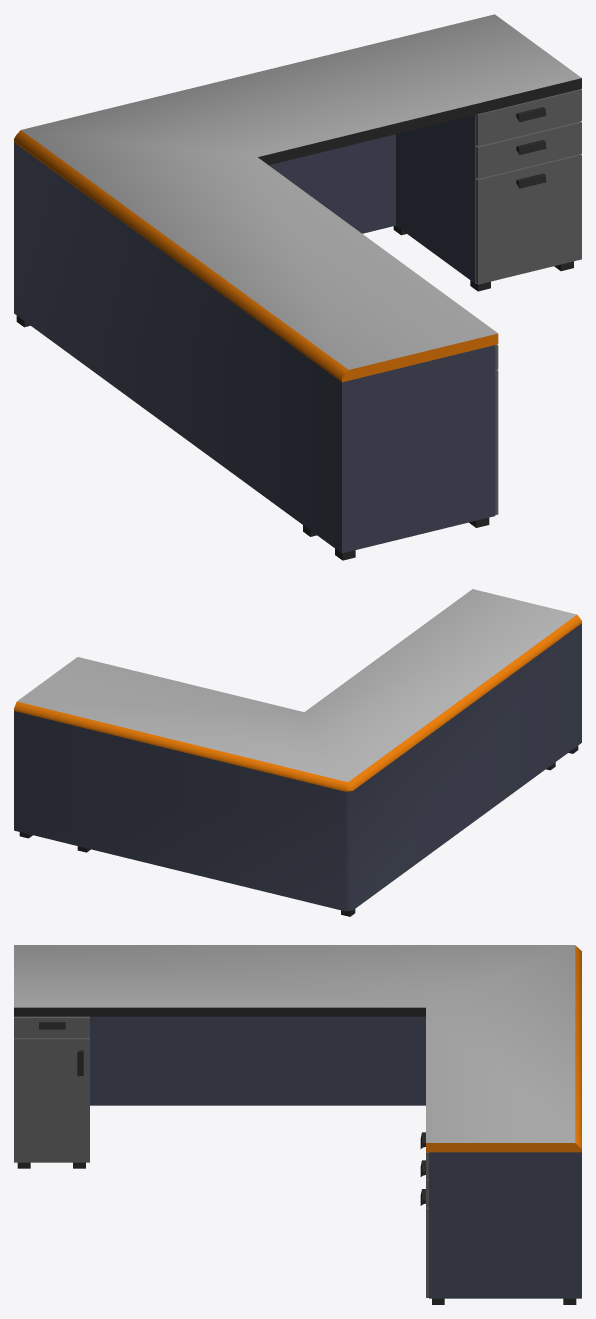
The model's file is BigDesk.glb.
The picture shows the model from 3 angles, top to bottom: view 1: azimuth 30°, elevation 25°; view 2: azimuth 150°, elevation 25°; view 3: azimuth 270°, elevation 25°; orthographic projection. The views are drawn at different scales.
Visible parts, largest first — view 1: Desk_Corner_Booth_A; view 2: Desk_Corner_Booth_A; view 3: Desk_Corner_Booth_A.
Boxes of the visible parts, <box> form: Desk_Corner_Booth_A: <box>14,14,581,560</box>; Desk_Corner_Booth_A: <box>14,589,581,916</box>; Desk_Corner_Booth_A: <box>14,945,581,1304</box>.
Size of the model in its own units: 1.84 by 0.7 by 2.2.
